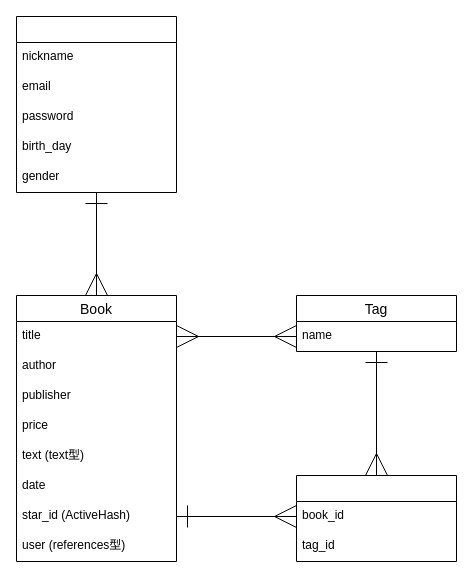
Some shapes in this 473 by 578 pixel diagram are drawn without their labels. Here are the shapes that lost their labels. From the top down, the box of each, then its label:
(16, 16, 176, 192): User
(296, 474, 456, 562): BookTagRelation
